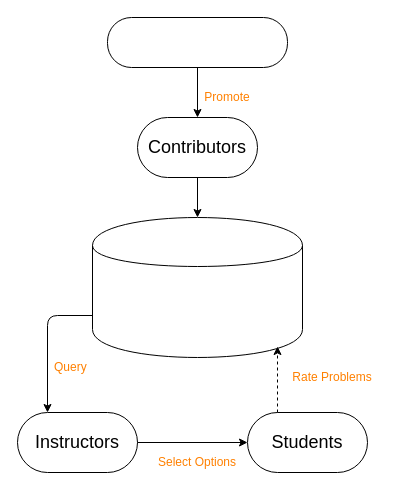
Some shapes in this 395 by 490 pixel diagram are drawn without their labels. The shapes that lost their labels are listed below. From the top down, each one's centre as x and y in pixels, then its label:
the point at 197,42: Governing Board
the point at 197,287: QRHomework Repository
